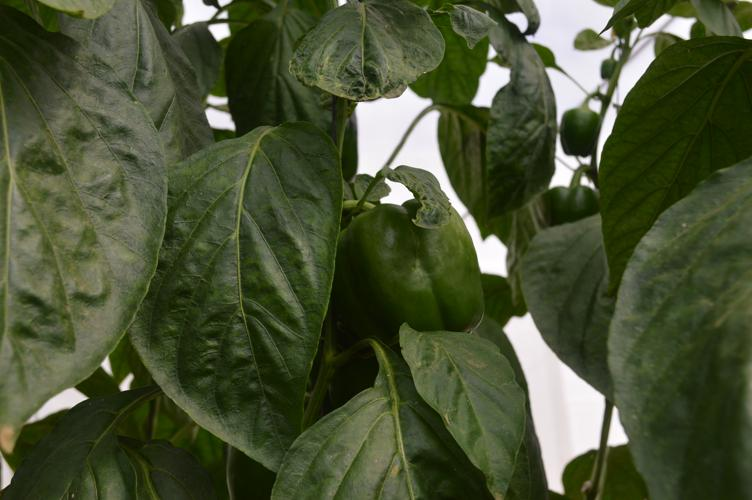BellPepper: (327, 198, 483, 343), (545, 185, 601, 228), (554, 108, 597, 157)
